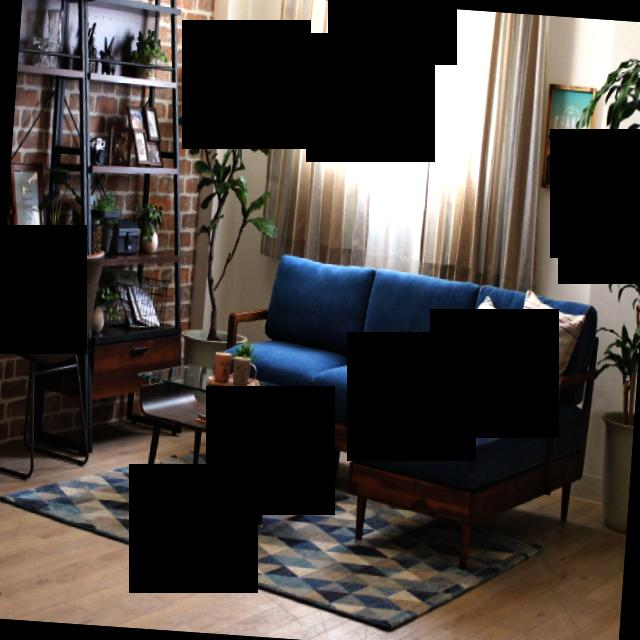vintage chair: (0, 241, 103, 480)
vintage desk: (126, 357, 327, 526)
vintage shelf: (0, 0, 207, 369)
vintage sofa: (214, 244, 606, 580)
